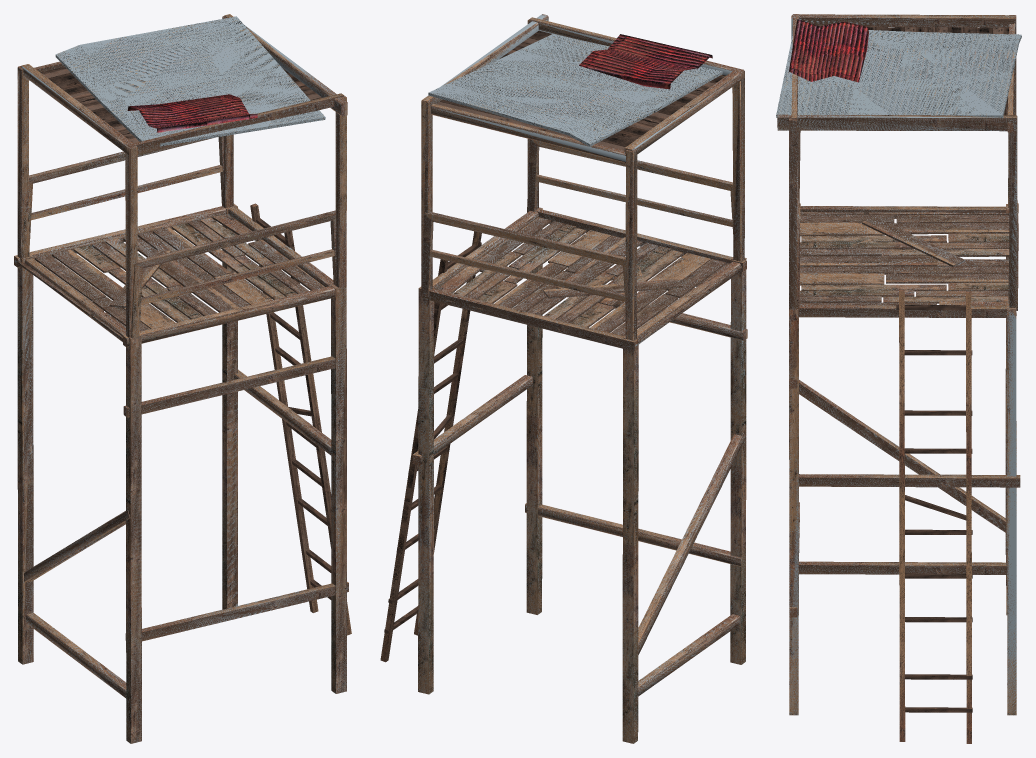
File: wood tower.fbx
3 renders of one model, left to right at view 1: azimuth 30°, elevation 25°; view 2: azimuth 150°, elevation 25°; view 3: azimuth 270°, elevation 25°, orthographic.
Parts seen in each view (by area): view 1: Group1; view 2: Group1; view 3: Group1.
Boxes of the visible parts, x1,y1,x2,y2 form: Group1: (14,14,351,743); Group1: (380,14,747,743); Group1: (776,14,1021,743).
Bounding box in the file's own units: 224 × 464 × 171.
